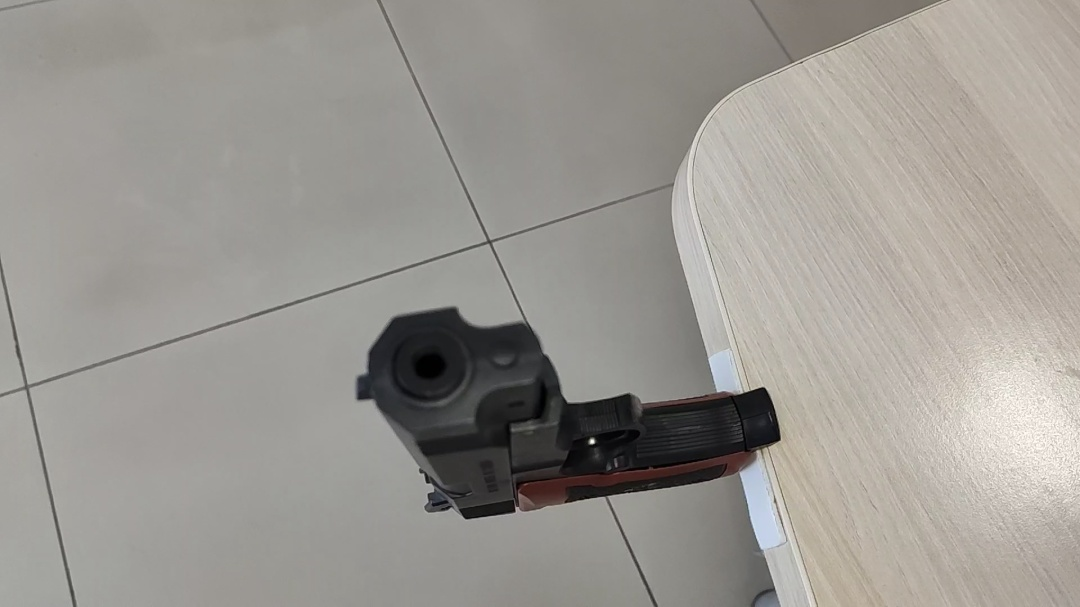gun: (358, 309, 785, 518)
